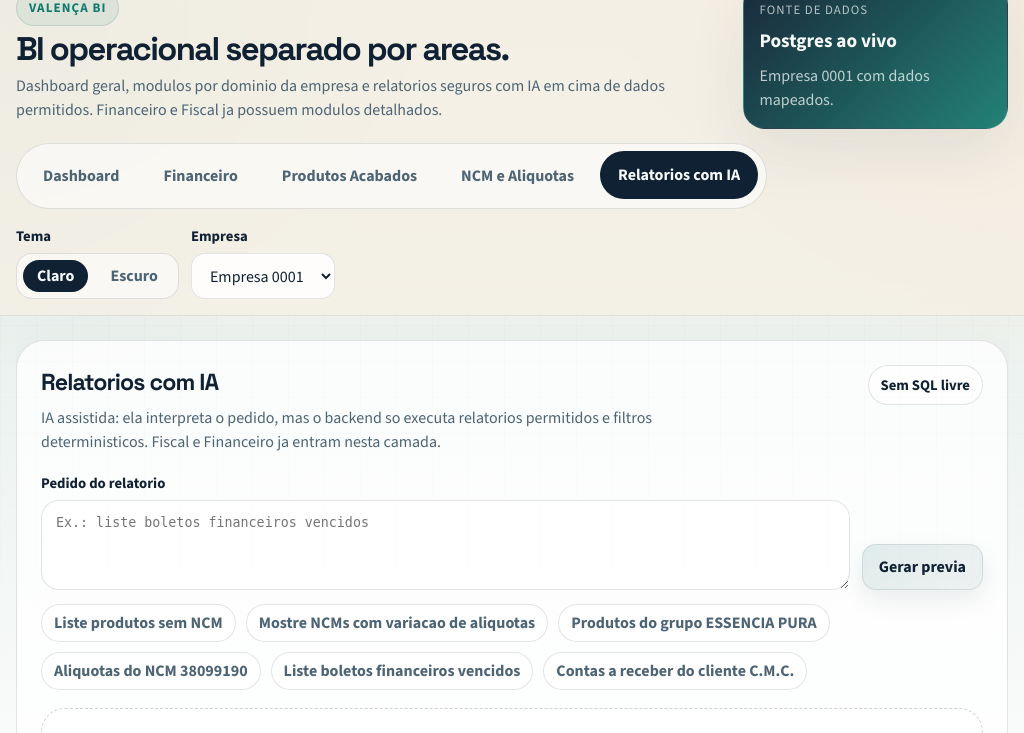
Test: Arquimedes BI app › gera uma prévia na tela de relatórios com IA
Expected: the heading "Relatorios com IA" is shown, [41,367,218,397]
Type "Liste produtos sem NCM" into the text box labelled "Pedido do relatorio".
click(445, 545); type("Liste produtos sem NCM")  # box [41,500,850,590]
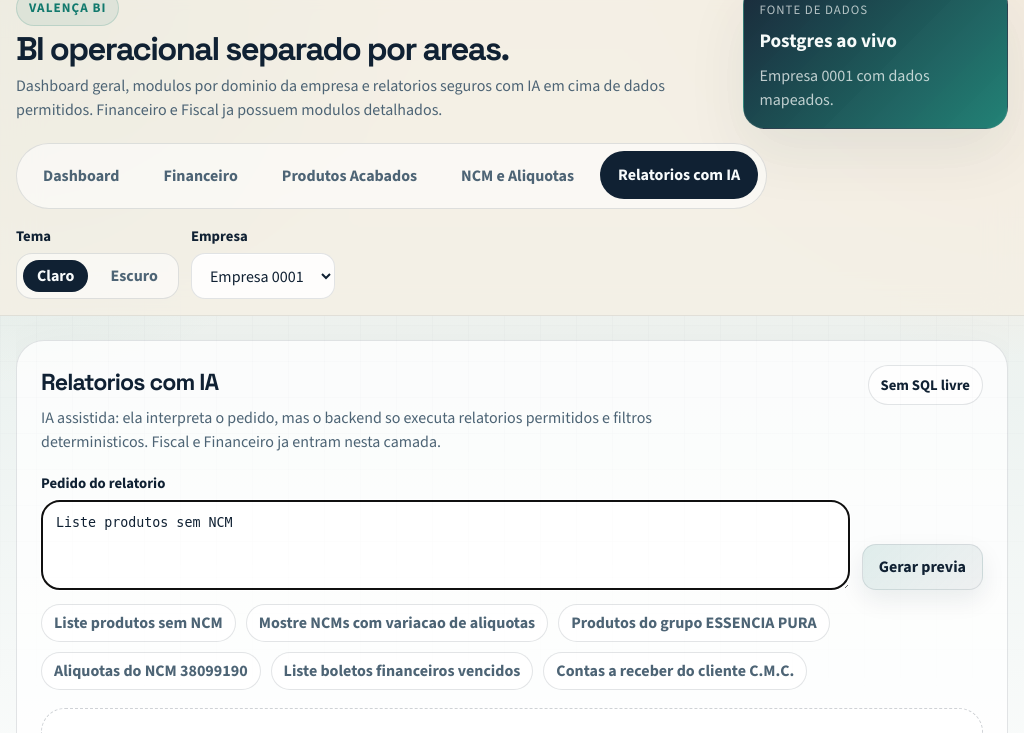
Click the button "Gerar previa".
click(922, 567)  # box [862,544,983,590]
(page scrolled)
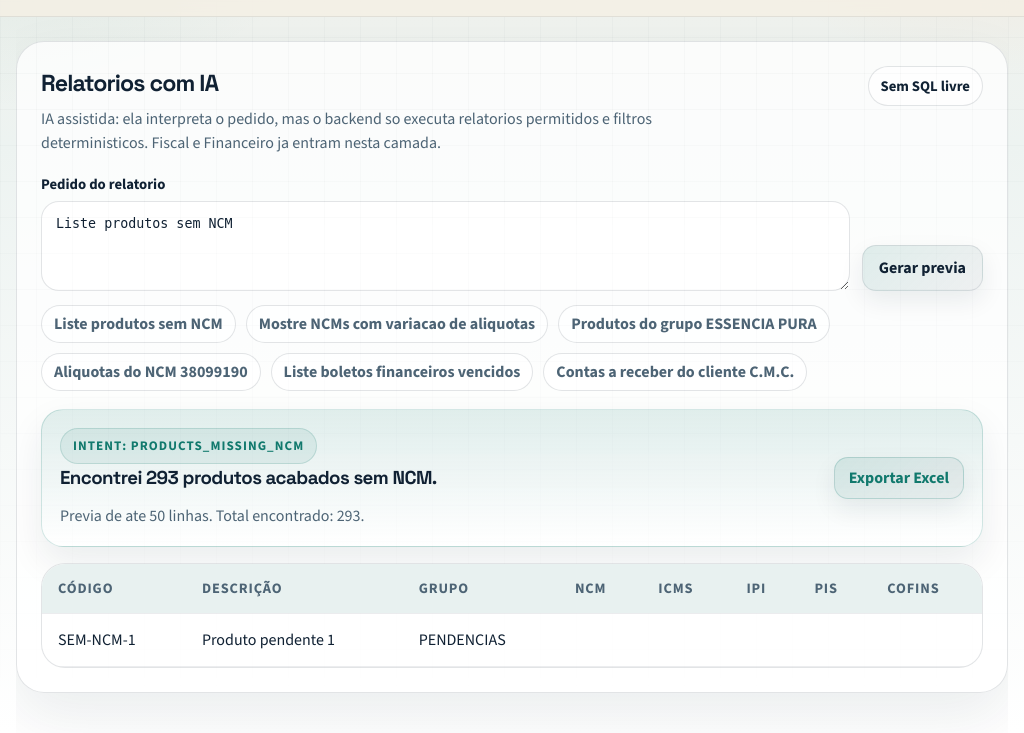
Result: the heading "Encontrei 293 produtos acabados sem NCM." is shown at [60,464,437,492]
Result: the text "SEM-NCM-1" is shown at [42,614,186,667]
